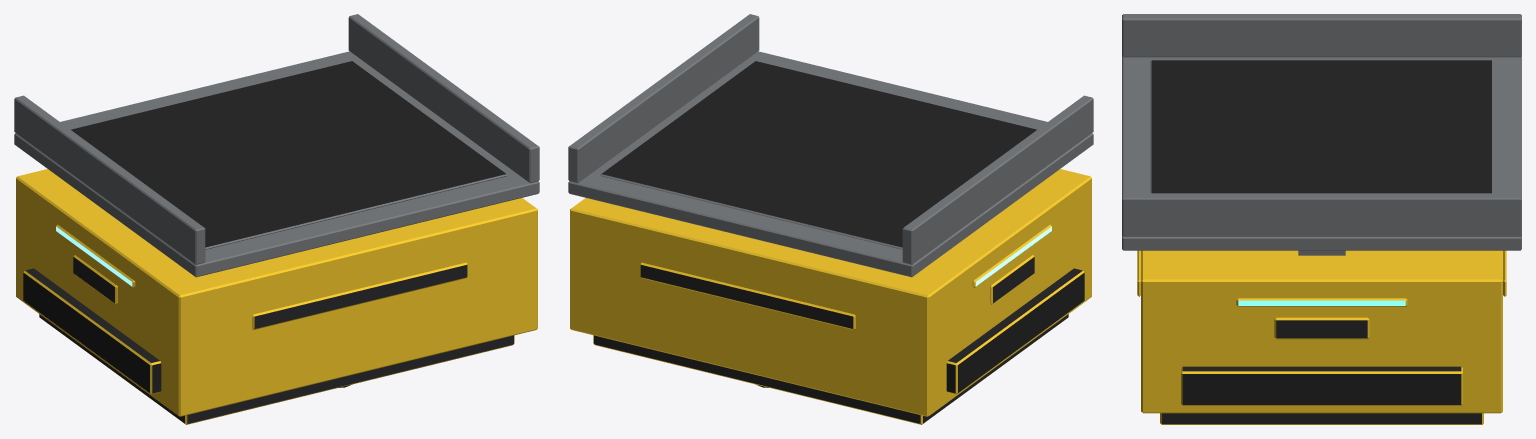
The model's file is tsorter_robot.glb.
3 renders of one model, left to right at view 1: azimuth 30°, elevation 25°; view 2: azimuth 150°, elevation 25°; view 3: azimuth 270°, elevation 25°, orthographic. The views are drawn at different scales.
Parts seen in each view (by area): view 1: TSorterRobot_Body, Tray; view 2: TSorterRobot_Body, Tray; view 3: Tray, TSorterRobot_Body.
Part boxes in pixels (x1,y1,x2,y2): TSorterRobot_Body: [16, 169, 537, 424]; Tray: [14, 14, 539, 277]; TSorterRobot_Body: [570, 169, 1091, 424]; Tray: [568, 14, 1093, 277]; Tray: [1122, 14, 1521, 250]; TSorterRobot_Body: [1137, 250, 1506, 424].
Bounding box in the file's own units: 0.508 × 0.275 × 0.42.
